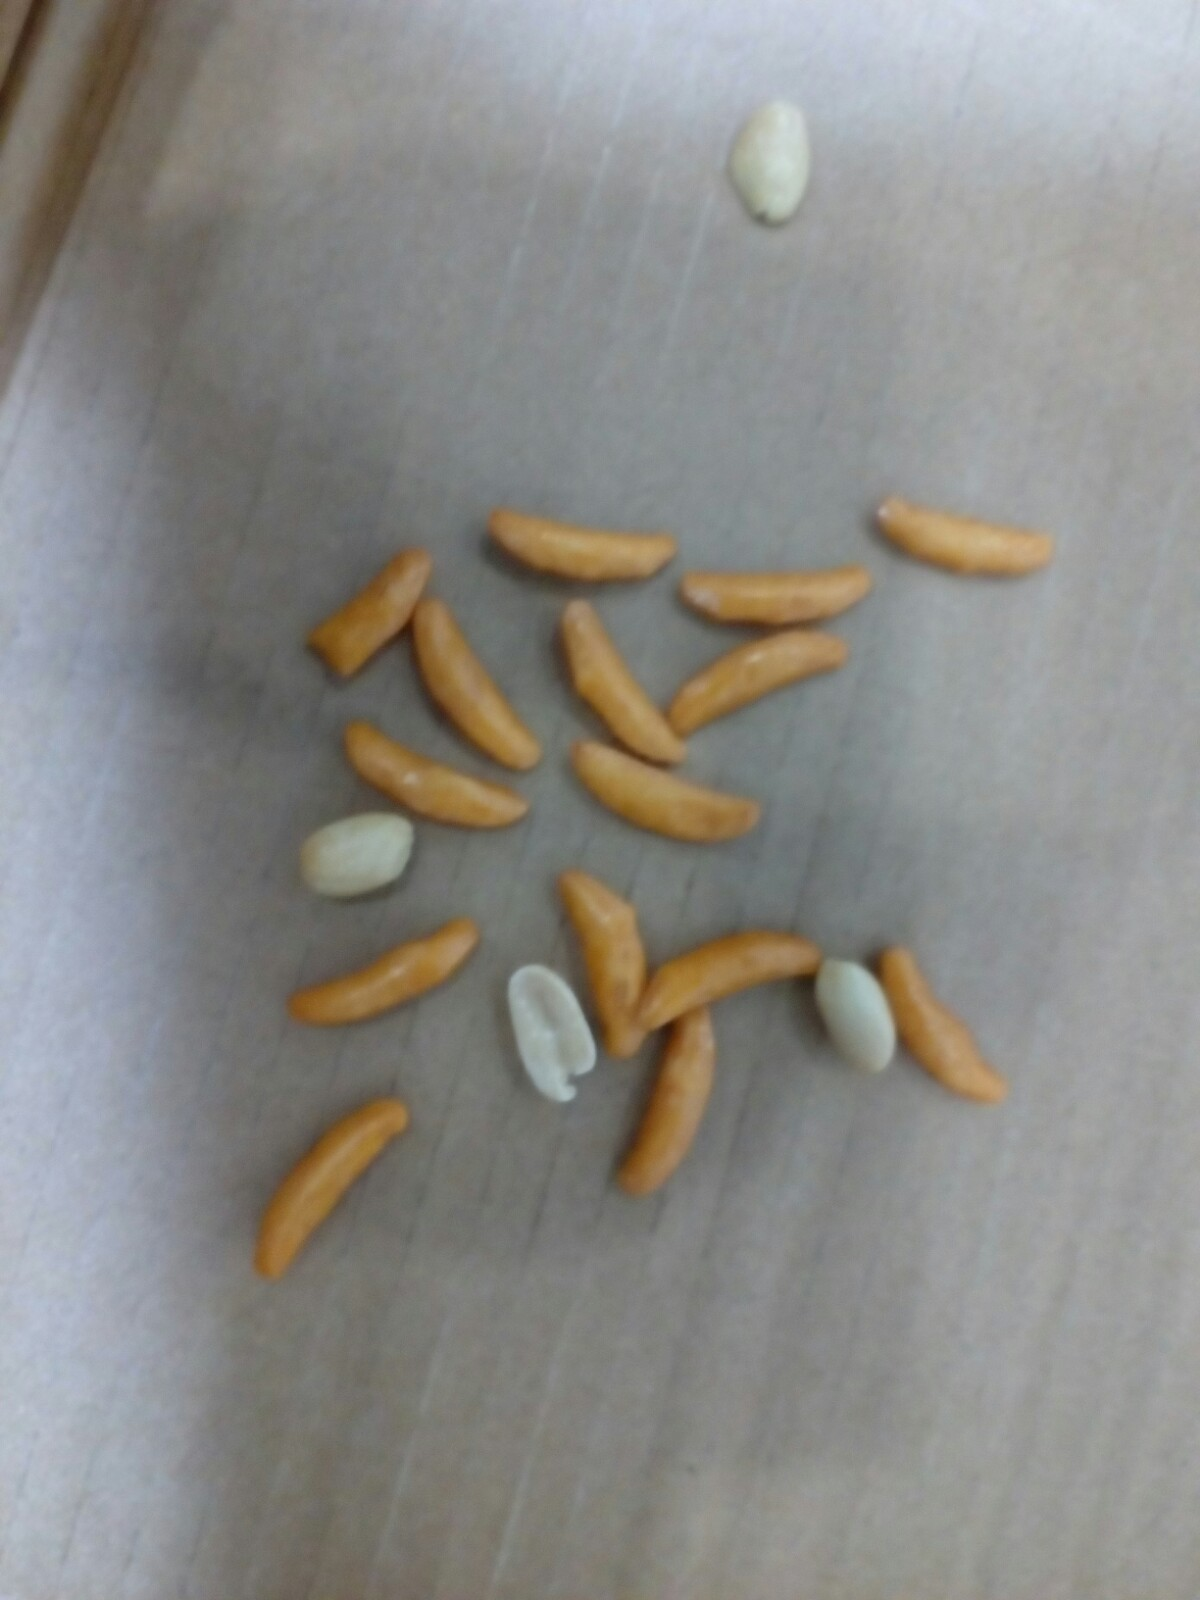peanut: (492, 959, 614, 1114), (711, 82, 826, 229), (807, 947, 928, 1083), (299, 799, 429, 906)
